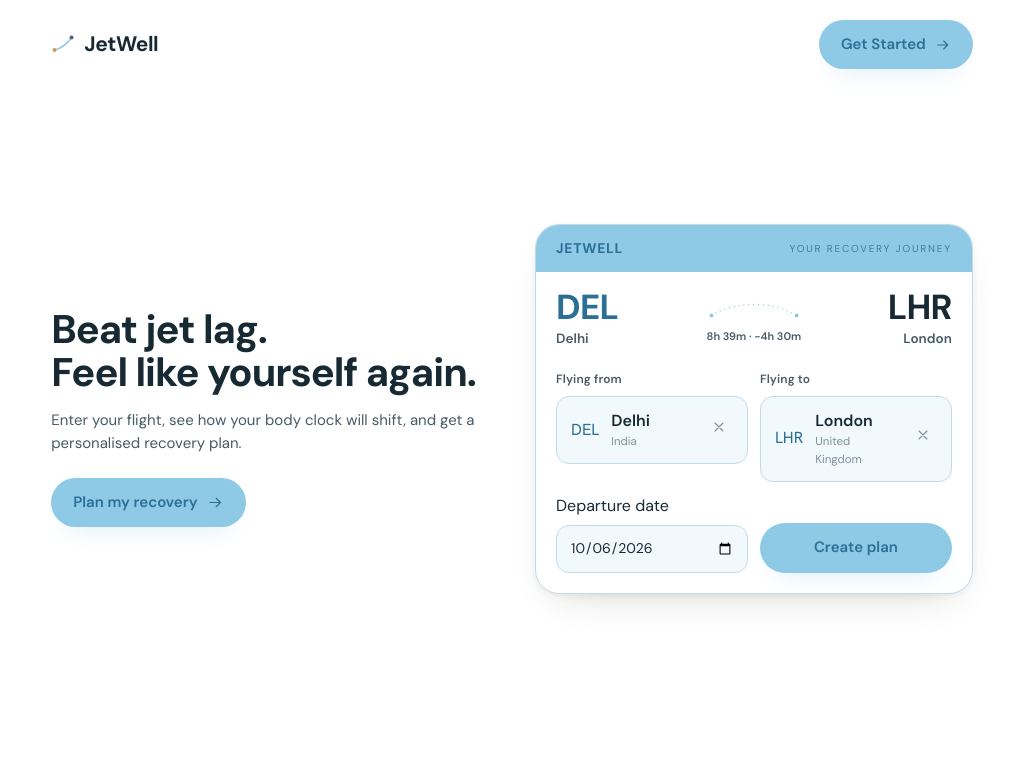
Test: app smoke tests › opens the planner from the schedule and advances a step
The image size is (1024, 766).
Step 1. Click the button "Get Started" → (896, 45), box [819,20,973,69]
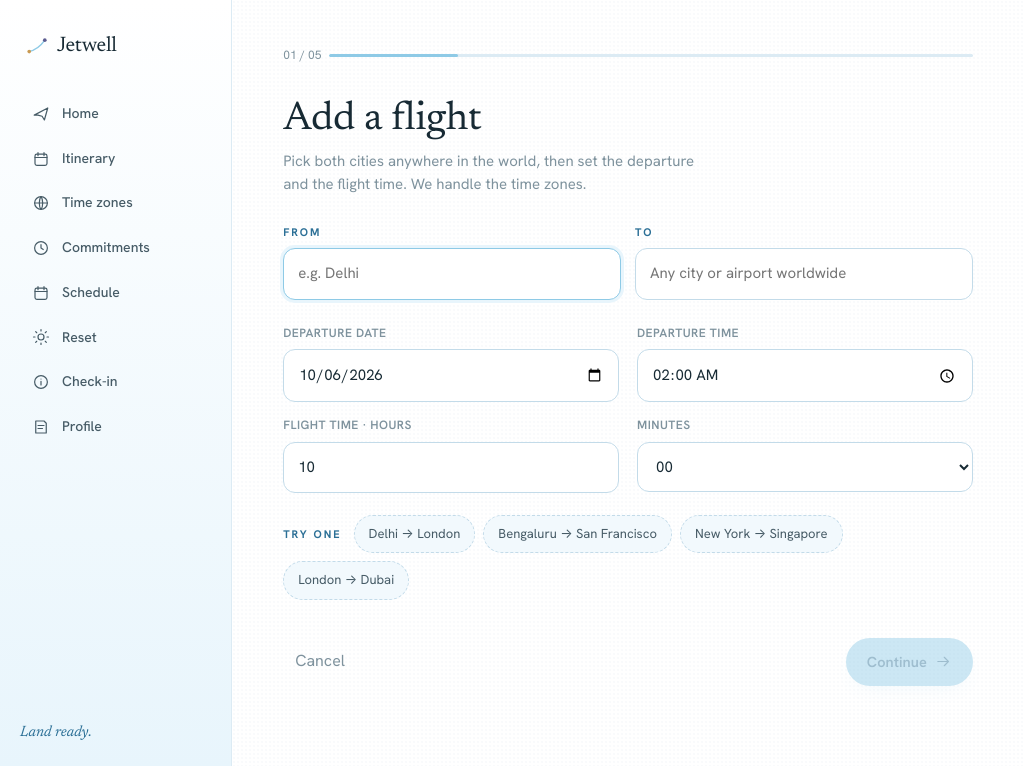
Step 2. Click the button "Schedule" → (116, 293), box [20,272,211,314]
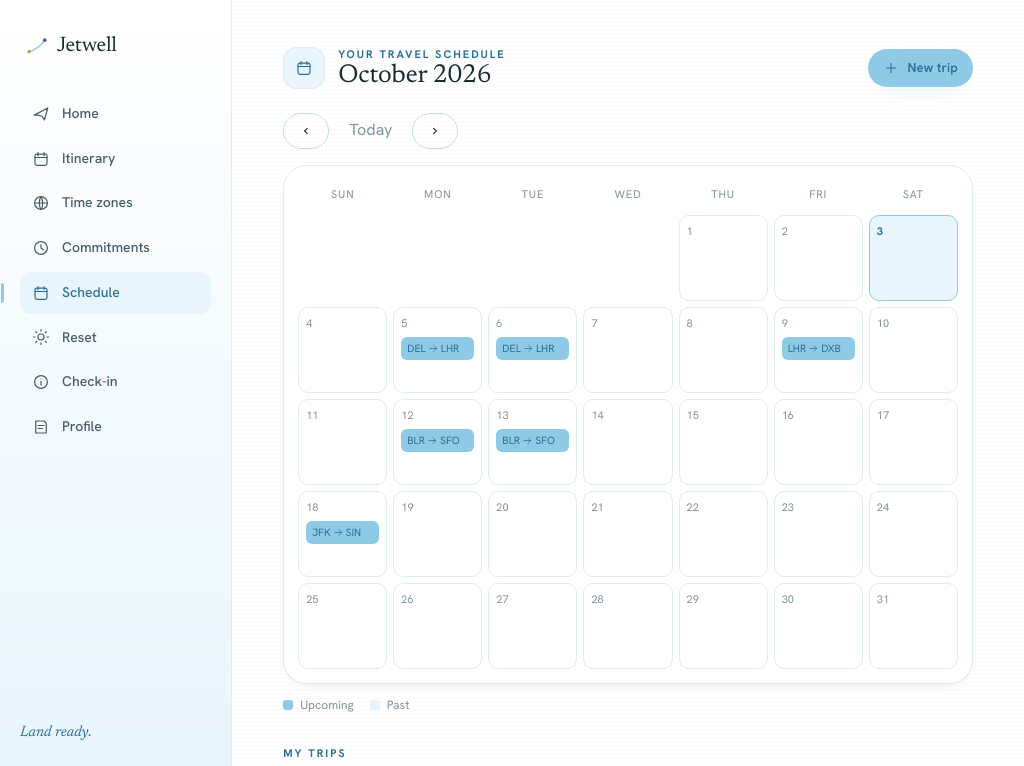
Step 3. Click the button "New trip" → (921, 68), box [868,49,973,87]
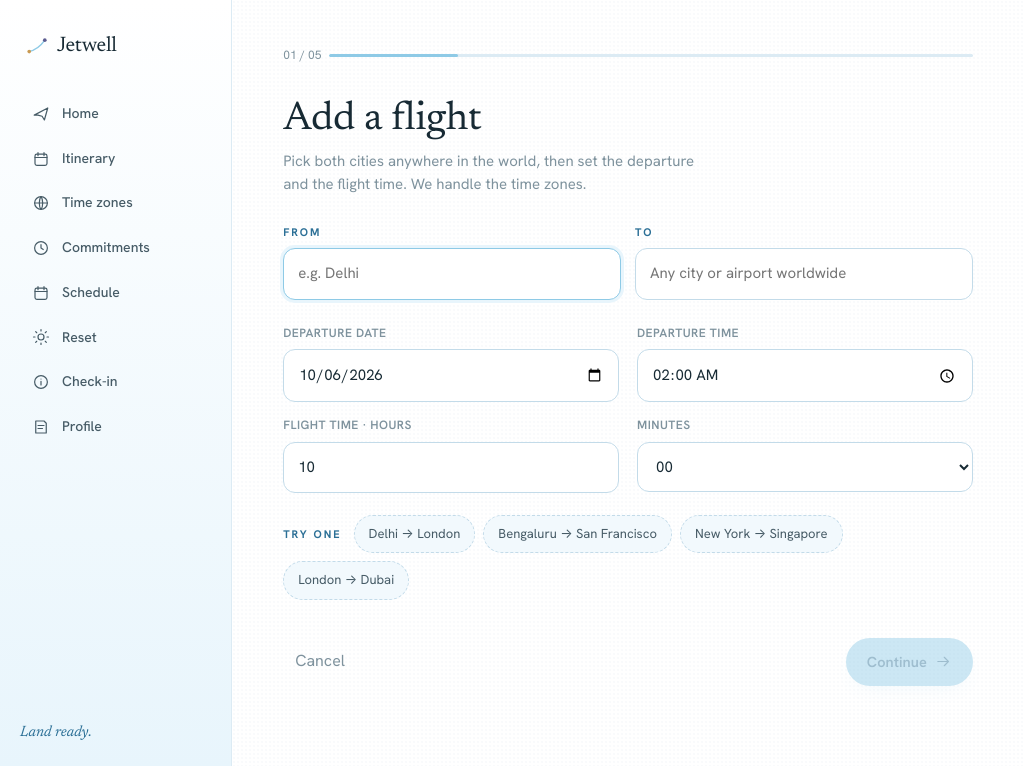
Check: the heading "Add a flight" is shown, box [283,100,482,140]
